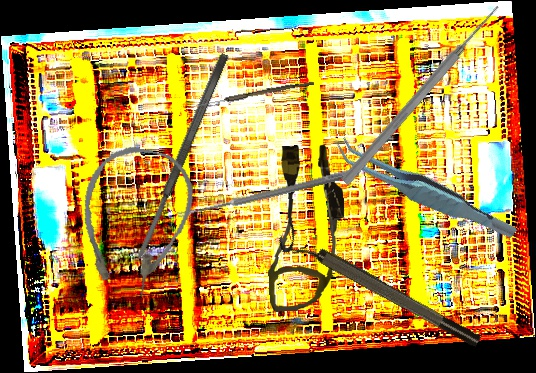Cannula: (66, 138, 202, 304), (261, 143, 350, 312)
Fixation Ring: (274, 221, 484, 359)
Pusher: (339, 1, 504, 188)
Spatula Surgical: (132, 52, 231, 262)
Surgical Spoon: (176, 166, 360, 221), (195, 78, 315, 110)
Tissue Forceps: (332, 107, 519, 273)
